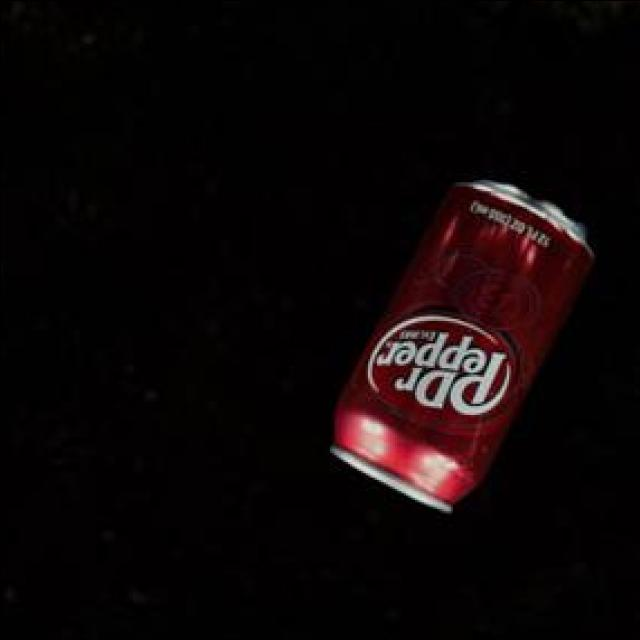logam: (332, 182, 596, 514)
